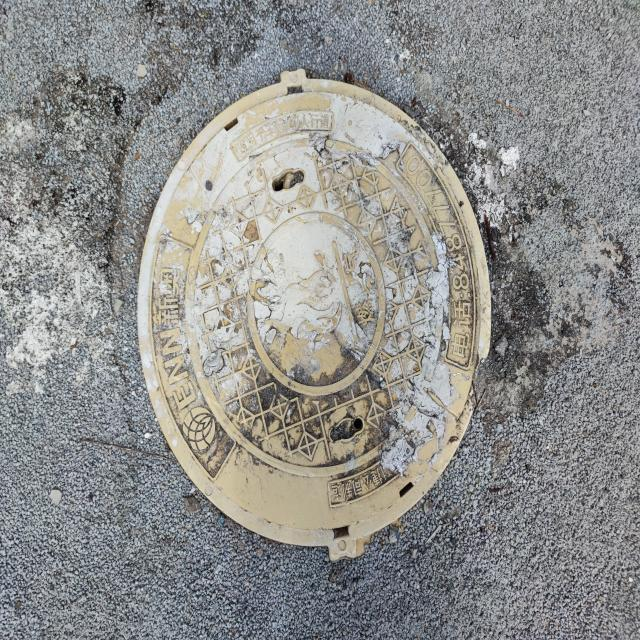Good: (127, 71, 507, 580)
